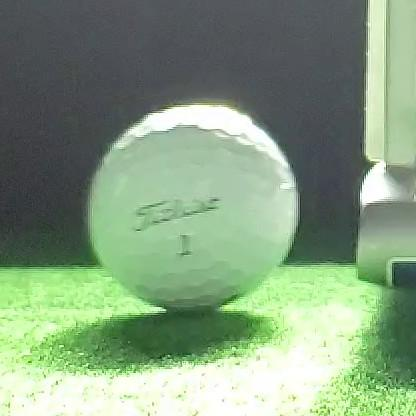golfball: (89, 105, 298, 315)
